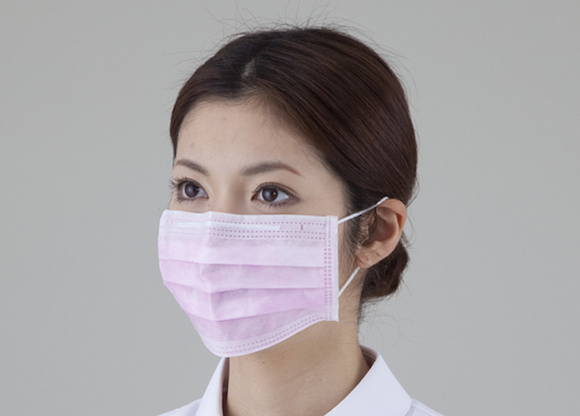surgical: (154, 205, 356, 362)
